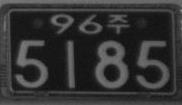1: (56, 40, 88, 88)
5: (135, 40, 170, 89), (14, 39, 48, 88)
6: (78, 13, 103, 35)
8: (93, 39, 129, 89)
9: (50, 12, 74, 35)
주: (107, 13, 129, 34)
